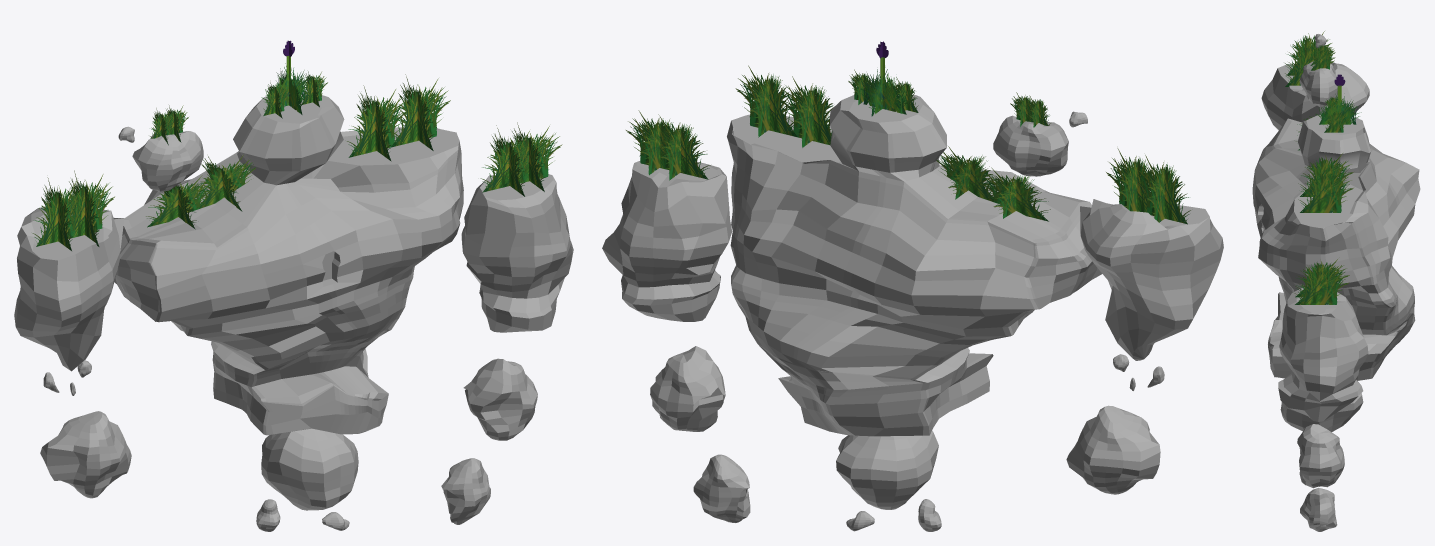
The model's file is bossModel11.fbx.
The picture shows the model from 3 angles, left to right: view 1: azimuth 30°, elevation 25°; view 2: azimuth 150°, elevation 25°; view 3: azimuth 270°, elevation 25°; orthographic projection. The views are drawn at different scales.
Parts seen in each view (by area): view 1: polySurface17, pPlane27, pPlane10, pPlane4, pPlane17, pPlane9, pPlane7, pPlane28, pPlane21, pPlane1, pPlane11, pPlane26 (+3 smaller); view 2: polySurface17, pPlane27, pPlane10, pPlane4, pPlane9, pPlane7, pPlane1, pPlane21, pPlane17, pPlane28, pPlane11, pPlane26 (+2 smaller); view 3: polySurface17, pPlane26, pPlane29, pPlane11, pPlane15, pPlane16, pPlane8, pPlane5, pPlane24, pPlane19.
Part boxes in pixels (box(x1,y1,x2,y2)): polySurface17: box(14, 92, 573, 531); pPlane27: box(390, 78, 450, 147); pPlane10: box(347, 89, 406, 157); pPlane4: box(32, 180, 84, 246); pPlane17: box(65, 174, 114, 238); pPlane9: box(480, 131, 542, 192); pPlane7: box(146, 175, 216, 227); pPlane28: box(499, 126, 562, 187); pPlane21: box(195, 155, 255, 209); pPlane1: box(261, 40, 309, 110); pPlane11: box(356, 85, 391, 161); pPlane26: box(398, 74, 434, 150); polySurface17: box(602, 94, 1223, 531); pPlane27: box(735, 65, 799, 137); pPlane10: box(782, 76, 833, 144); pPlane4: box(1137, 155, 1190, 224); pPlane9: box(647, 114, 710, 179); pPlane7: box(977, 167, 1050, 221); pPlane1: box(860, 41, 910, 114); pPlane21: box(936, 146, 1000, 202); pPlane17: box(1106, 148, 1151, 214); pPlane28: box(626, 110, 688, 174); pPlane11: box(794, 85, 829, 147); pPlane26: box(750, 74, 784, 137); polySurface17: box(1252, 34, 1420, 531); pPlane26: box(1298, 169, 1353, 212); pPlane29: box(1294, 266, 1349, 304); pPlane11: box(1298, 153, 1353, 196); pPlane15: box(1316, 74, 1361, 124); pPlane16: box(1285, 43, 1334, 86); pPlane8: box(1295, 259, 1349, 297); pPlane5: box(1285, 31, 1334, 75); pPlane24: box(1324, 111, 1348, 132); pPlane19: box(1311, 48, 1335, 70).
Bounding box in the file's own units: 6.06 × 5.38 × 2.01.
Materials: 3 (2 with a texture image).
